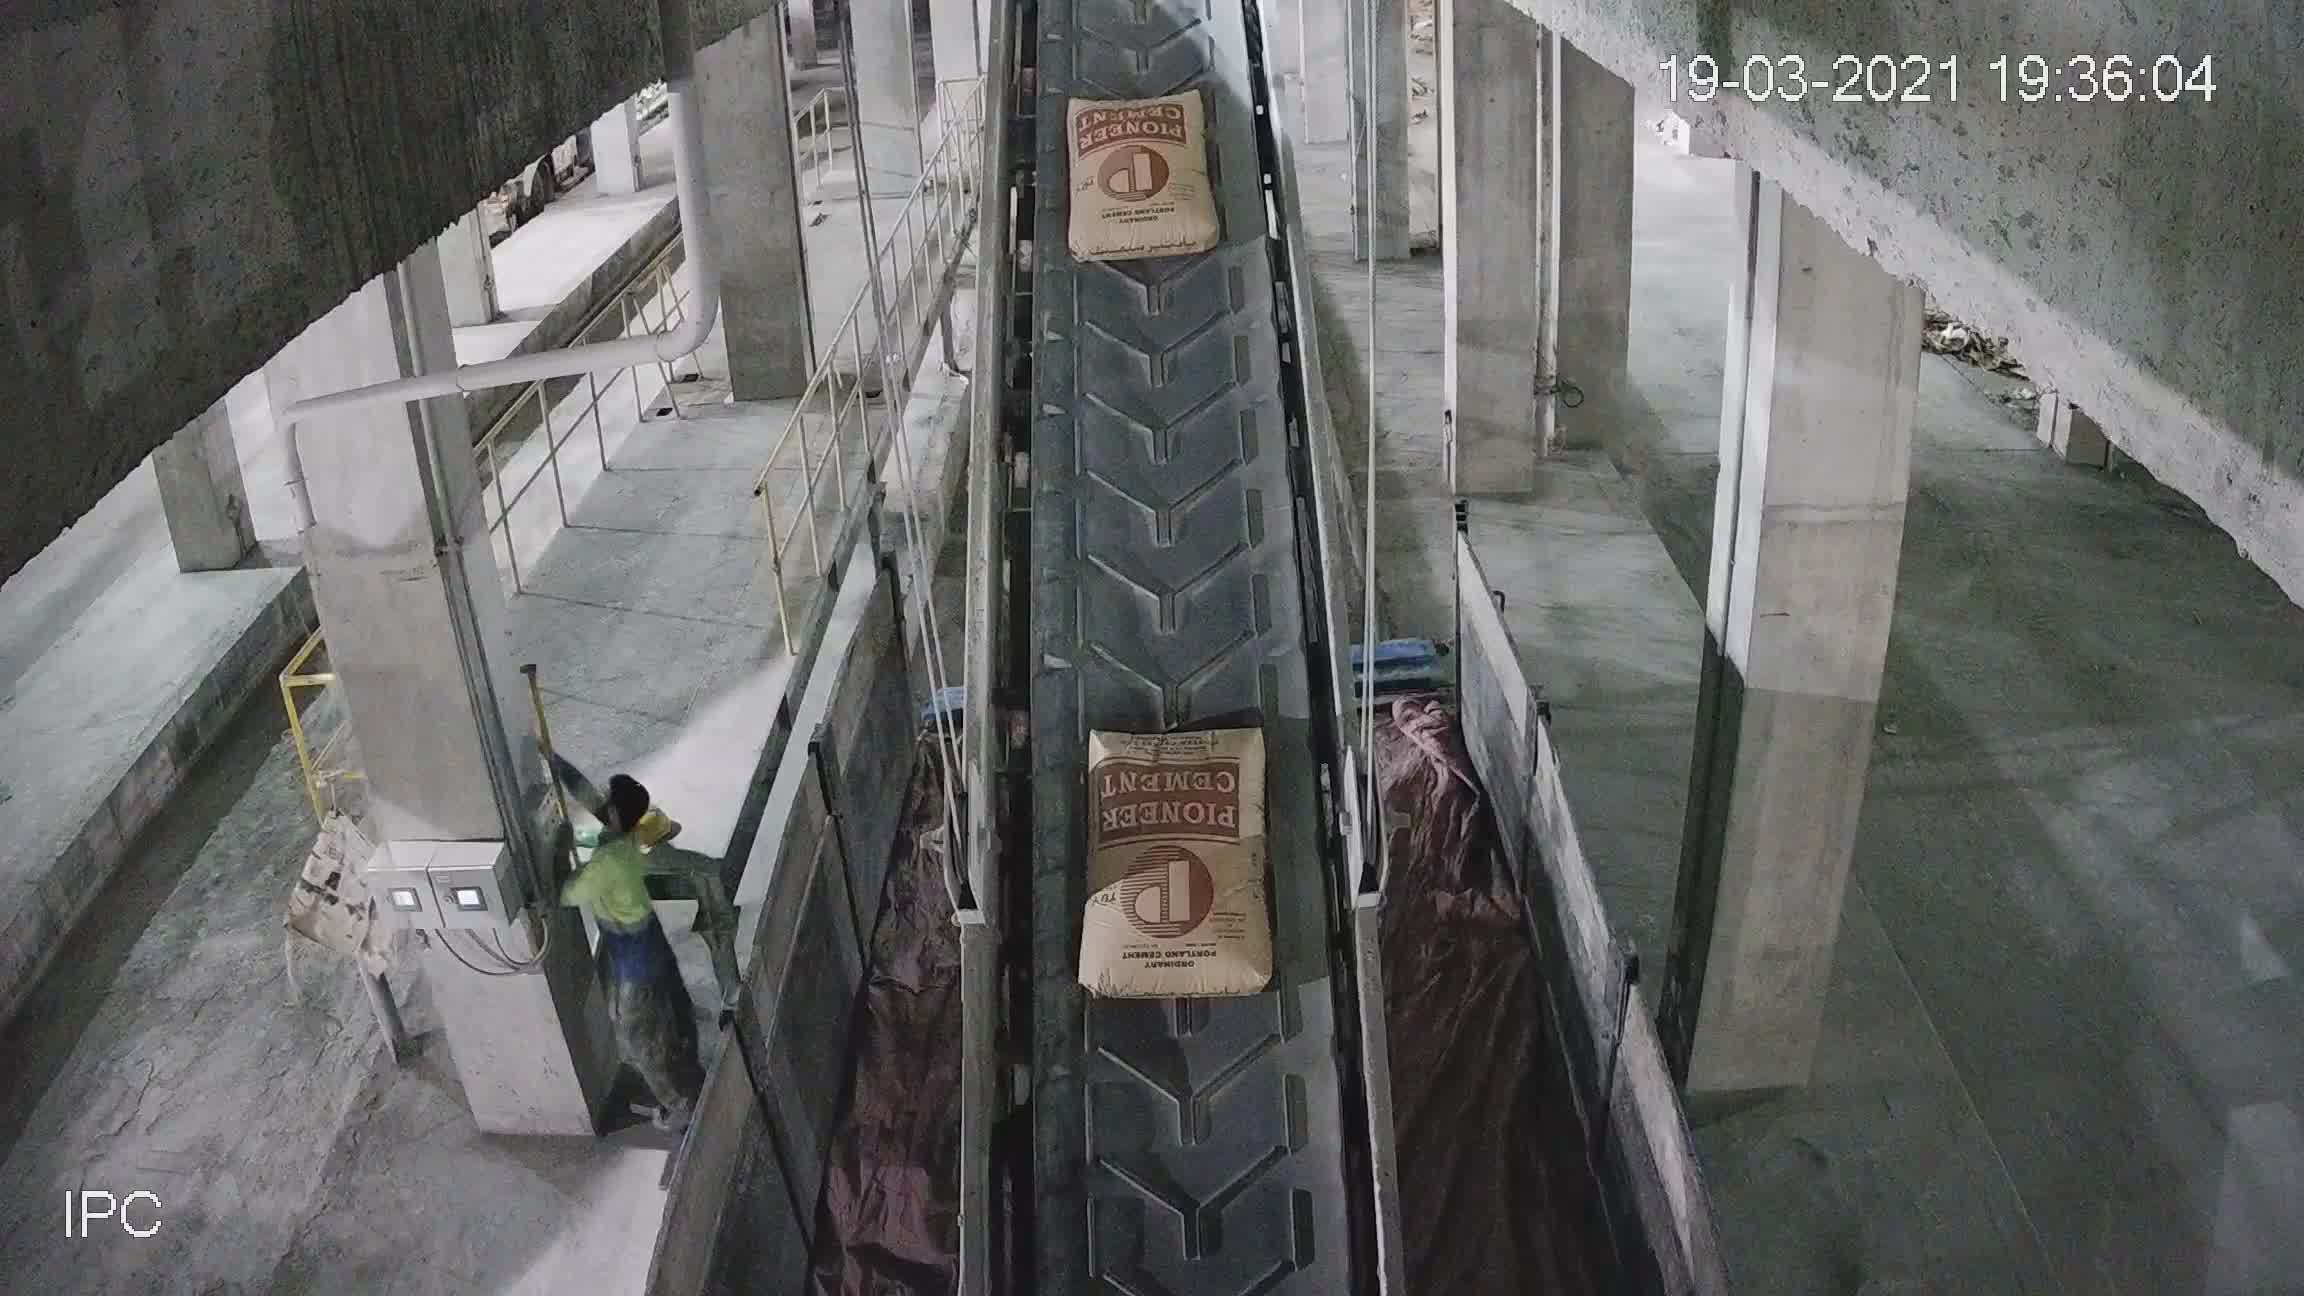bag: (1086, 731, 1275, 1010), (1063, 92, 1211, 256)
belt: (967, 32, 1378, 1296)
